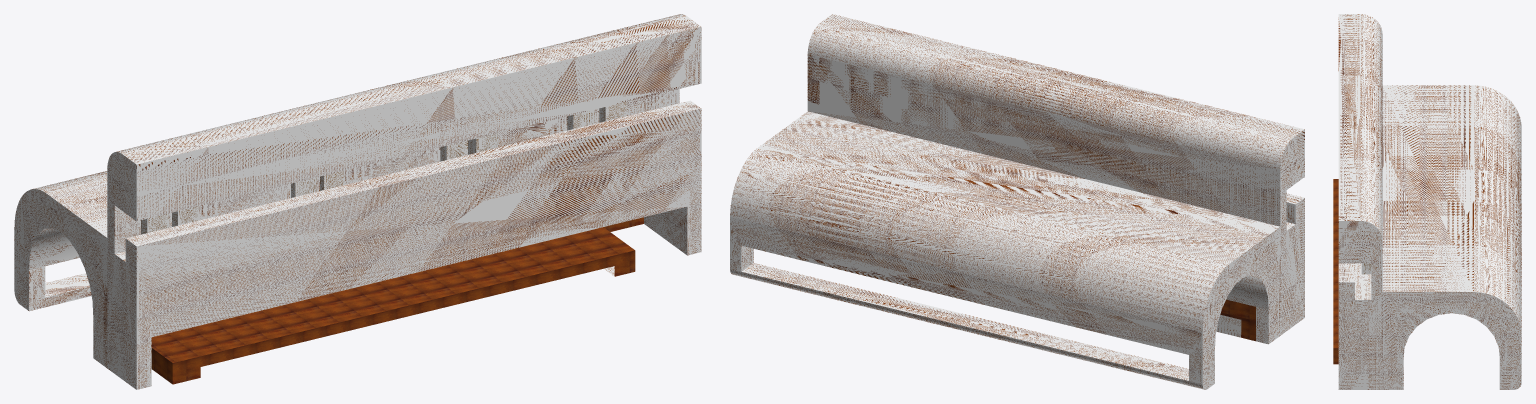
The picture shows the model from 3 angles, left to right: view 1: azimuth 30°, elevation 25°; view 2: azimuth 150°, elevation 25°; view 3: azimuth 270°, elevation 25°; orthographic projection. The views are drawn at different scales.
Parts seen in each view (by area): view 1: mesh1_mesh1-geometry; view 2: mesh1_mesh1-geometry; view 3: mesh1_mesh1-geometry.
Part boxes in pixels (left/top/right/bottom): mesh1_mesh1-geometry: left=14, top=14, right=701, bottom=389; mesh1_mesh1-geometry: left=730, top=14, right=1304, bottom=389; mesh1_mesh1-geometry: left=1333, top=14, right=1521, bottom=389.
Size of the model in its own units: 0.8791 by 0.3352 by 0.3388.
